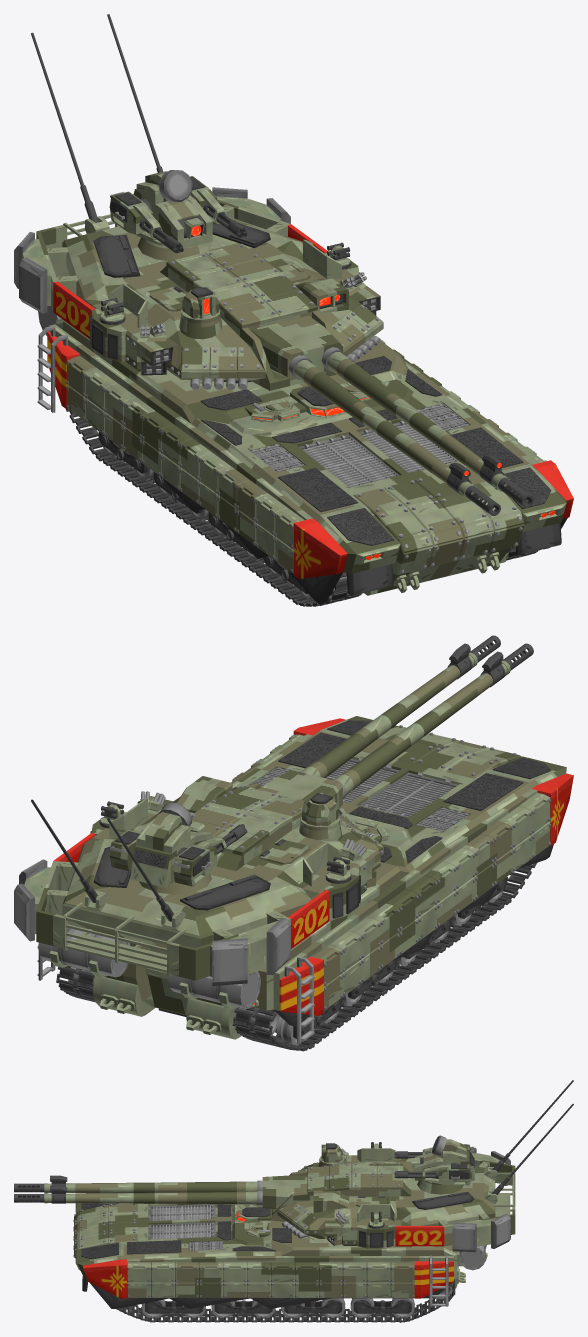
The picture shows the model from 3 angles, top to bottom: view 1: azimuth 30°, elevation 25°; view 2: azimuth 150°, elevation 25°; view 3: azimuth 270°, elevation 25°; orthographic projection. The views are drawn at different scales.
Visible parts, largest first — view 1: Turret_Body, ERA_Side, Chessis, Era_Front3, Plate, GunHead, Side_Plate, GunBarrel_R.001, GunBarrel_R, Track_R_Static, Engint_Slate, Top_Shield (+11 smaller); view 2: Turret_Body, ERA_Side, Chessis, Side_Plate, GunHead, Track_R_Static, Plate, Rear_Part, GunBarrel_R, GunBarrel_R.001, MainBody_Weapon, Era_Front3 (+12 smaller); view 3: Turret_Body, ERA_Side, Chessis, Side_Plate, Wheel_Part, GunHead, GunBarrel_R.001, Track_L_Static, GunBarrel_R, Era_Front3, Plate, Engint_Slate (+8 smaller).
Part boxes in pixels (x1,y1,x2,y2): Turret_Body: (14, 14, 383, 389); ERA_Side: (37, 325, 573, 578); Chessis: (55, 319, 566, 595); Era_Front3: (353, 467, 524, 574); Plate: (200, 356, 551, 545); GunHead: (160, 243, 336, 390); Side_Plate: (49, 324, 572, 603); GunBarrel_R.001: (327, 352, 533, 507); GunBarrel_R: (294, 360, 500, 515); Track_R_Static: (66, 409, 363, 606); Engint_Slate: (299, 421, 457, 487); Top_Shield: (187, 353, 413, 437); Turret_Body: (14, 785, 383, 985); ERA_Side: (37, 718, 573, 1043); Chessis: (92, 716, 566, 1039); Side_Plate: (66, 718, 571, 1026); GunHead: (192, 783, 339, 870); Track_R_Static: (232, 862, 537, 1051); Plate: (232, 720, 551, 863); Rear_Part: (38, 927, 260, 1034); GunBarrel_R: (334, 643, 533, 795); GunBarrel_R.001: (301, 635, 500, 777); MainBody_Weapon: (130, 802, 212, 887); Era_Front3: (361, 725, 521, 778); Turret_Body: (277, 1080, 573, 1252); ERA_Side: (83, 1255, 453, 1306); Chessis: (77, 1203, 458, 1288); Side_Plate: (83, 1256, 453, 1308); Wheel_Part: (141, 1284, 452, 1318); GunHead: (272, 1163, 411, 1221); GunBarrel_R.001: (14, 1185, 257, 1204); Track_L_Static: (116, 1279, 455, 1322); GunBarrel_R: (14, 1175, 257, 1193); Era_Front3: (73, 1203, 137, 1258); Plate: (81, 1203, 291, 1259); Engint_Slate: (148, 1204, 215, 1239).
Bounding box in the file's own units: 10.62 × 11.87 × 30.42.
10 materials, 10 textured.
